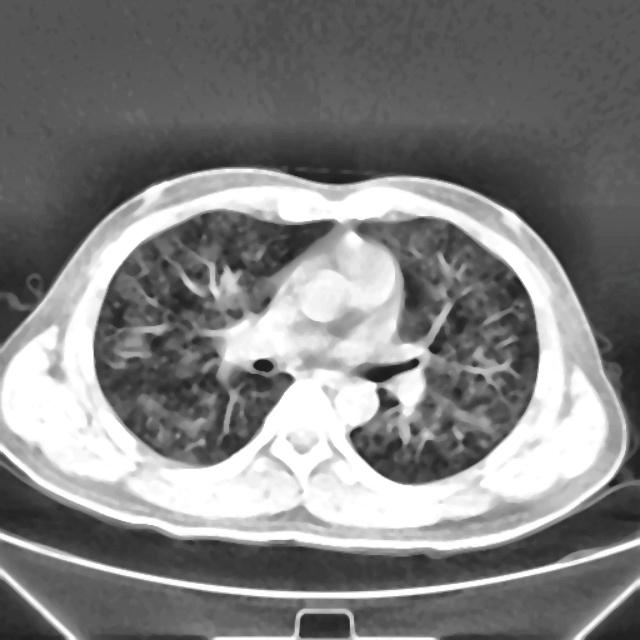covid: (1, 165, 630, 558)
